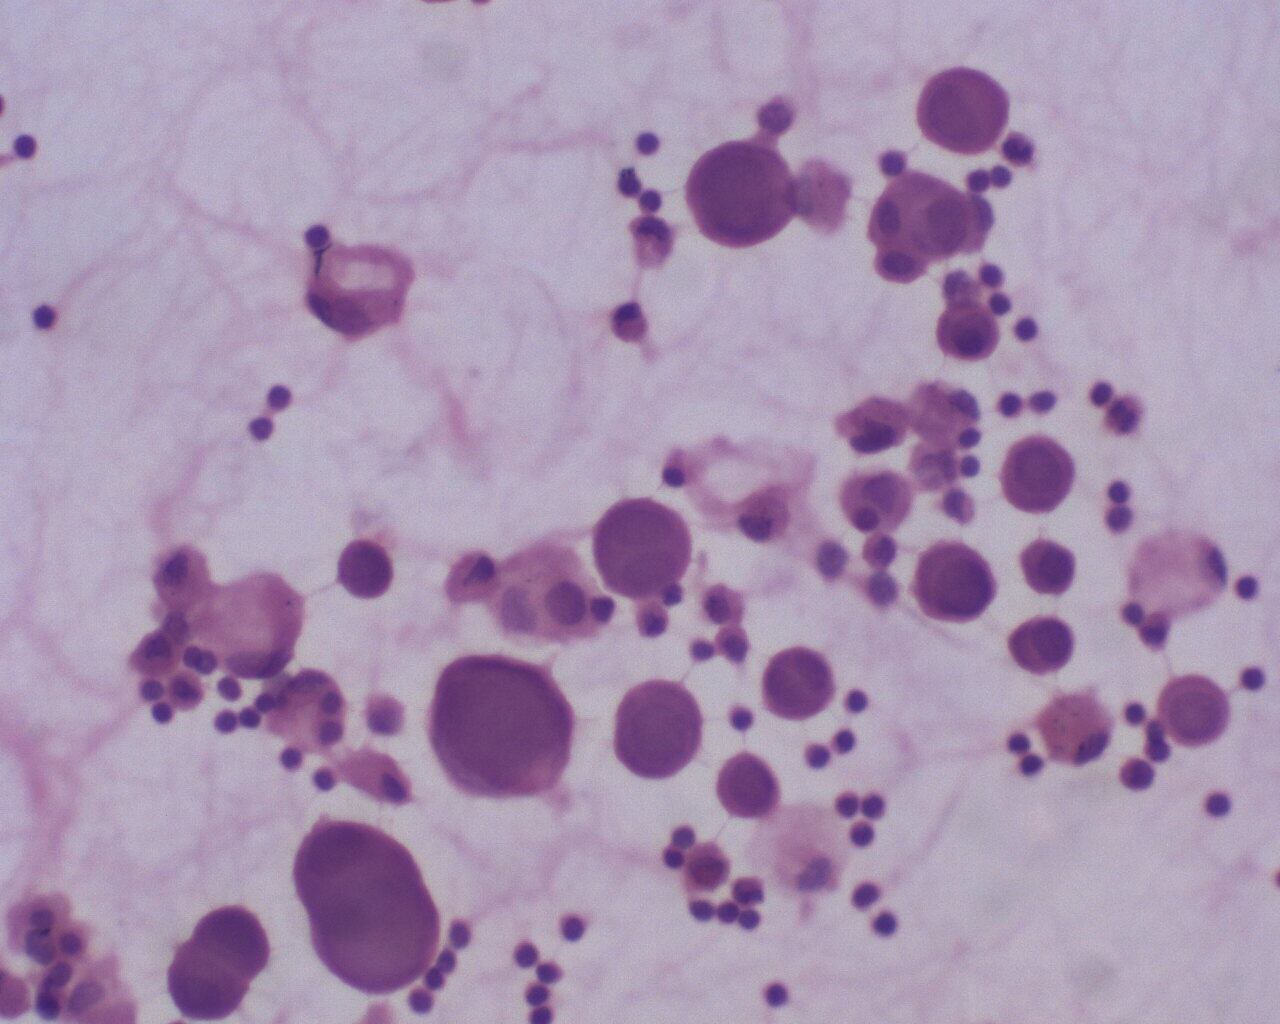ab: (289, 817, 452, 1000), (427, 655, 576, 807), (679, 138, 796, 254), (162, 904, 278, 1021), (587, 498, 702, 603), (611, 676, 709, 779), (905, 531, 1000, 630), (997, 426, 1081, 520), (1155, 672, 1233, 758), (706, 743, 786, 821), (999, 609, 1080, 681)
histo: (203, 564, 308, 682), (1123, 521, 1232, 621)
lymph: (25, 294, 69, 335), (759, 975, 797, 1015), (841, 683, 881, 720)
meso: (1041, 688, 1119, 772)
